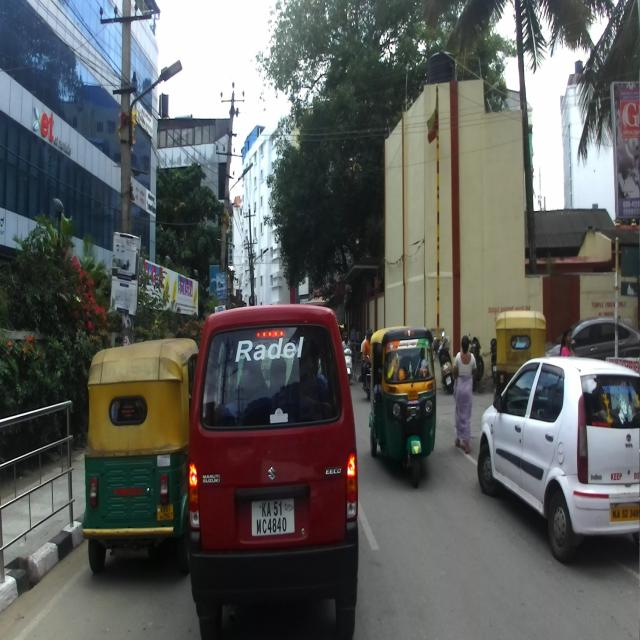autorickshaw: (81, 338, 198, 572), (369, 328, 438, 488), (496, 308, 546, 401)
car: (189, 301, 360, 639), (478, 352, 640, 559)
